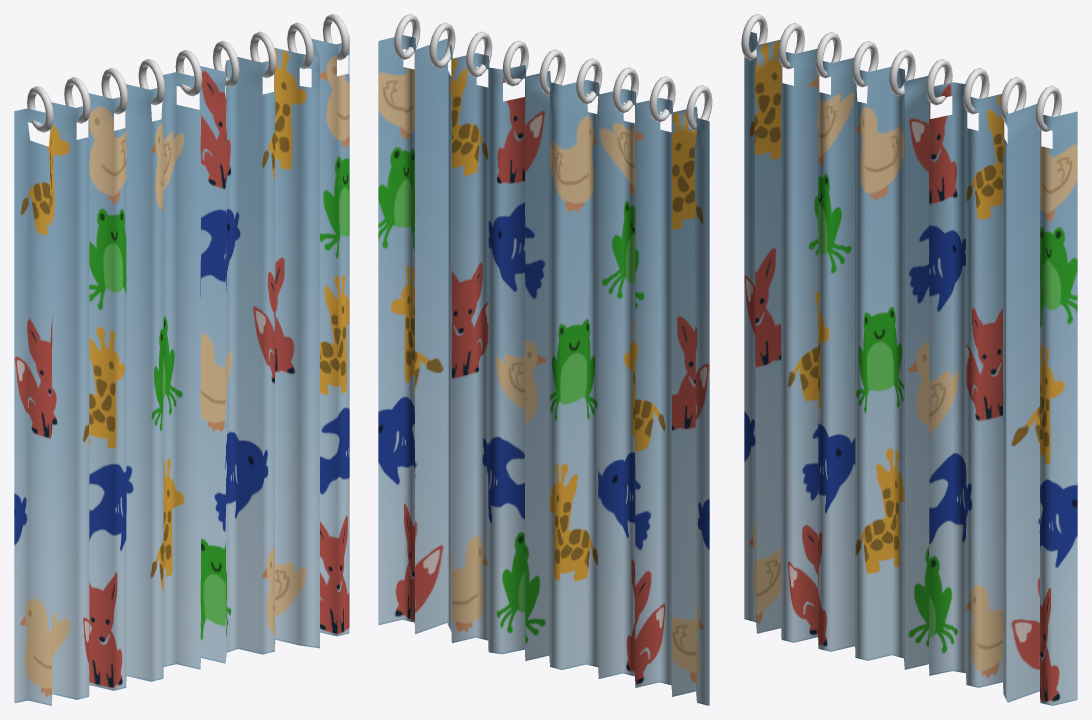
The model's file is curtains.fbx.
The picture shows the model from 3 angles, left to right: view 1: azimuth 30°, elevation 25°; view 2: azimuth 150°, elevation 25°; view 3: azimuth 330°, elevation 25°; orthographic projection.
Parts seen in each view (by area): view 1: cloth, cloth1, pTorus5, pTorus1, pTorus6, pTorus7, pTorus2, pTorus3, pTorus4, pTorus8, pTorus9; view 2: cloth1, cloth, pTorus8, pTorus9, pTorus2, pTorus4, pTorus7, pTorus3, pTorus1, pTorus5, pTorus6; view 3: cloth, cloth1, pTorus5, pTorus1, pTorus6, pTorus7, pTorus3, pTorus4, pTorus9, pTorus2, pTorus8.
Boxes of the visible parts, box(x1,y1,x2,y2) form: cloth: box(15, 35, 349, 705); cloth1: box(14, 39, 348, 702); pTorus5: box(175, 50, 202, 96); pTorus1: box(27, 86, 53, 132); pTorus6: box(212, 41, 239, 87); pTorus7: box(250, 31, 276, 78); pTorus2: box(64, 77, 90, 123); pTorus3: box(101, 68, 127, 114); pTorus4: box(138, 59, 165, 105); pTorus8: box(287, 22, 313, 69); pTorus9: box(322, 14, 349, 60); cloth1: box(378, 36, 708, 705); cloth: box(379, 35, 709, 705); pTorus8: box(429, 22, 455, 68); pTorus9: box(394, 14, 420, 59); pTorus2: box(649, 76, 675, 122); pTorus4: box(576, 58, 602, 104); pTorus7: box(466, 31, 492, 77); pTorus3: box(612, 67, 638, 113); pTorus1: box(686, 85, 712, 130); pTorus5: box(539, 49, 565, 95); pTorus6: box(502, 40, 528, 86); cloth: box(744, 33, 1076, 705); cloth1: box(751, 32, 1077, 699); pTorus5: box(889, 50, 915, 96); pTorus1: box(741, 14, 767, 60); pTorus6: box(926, 59, 952, 105); pTorus7: box(963, 68, 989, 114); pTorus3: box(815, 32, 841, 78); pTorus4: box(852, 41, 878, 87); pTorus9: box(1035, 85, 1061, 131); pTorus2: box(778, 23, 804, 69); pTorus8: box(1000, 77, 1026, 120).
Bounding box in the file's own units: 11.8 × 20.79 × 1.46.
2 materials, 1 textured.
